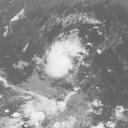cyclone: (43, 29, 90, 80)
